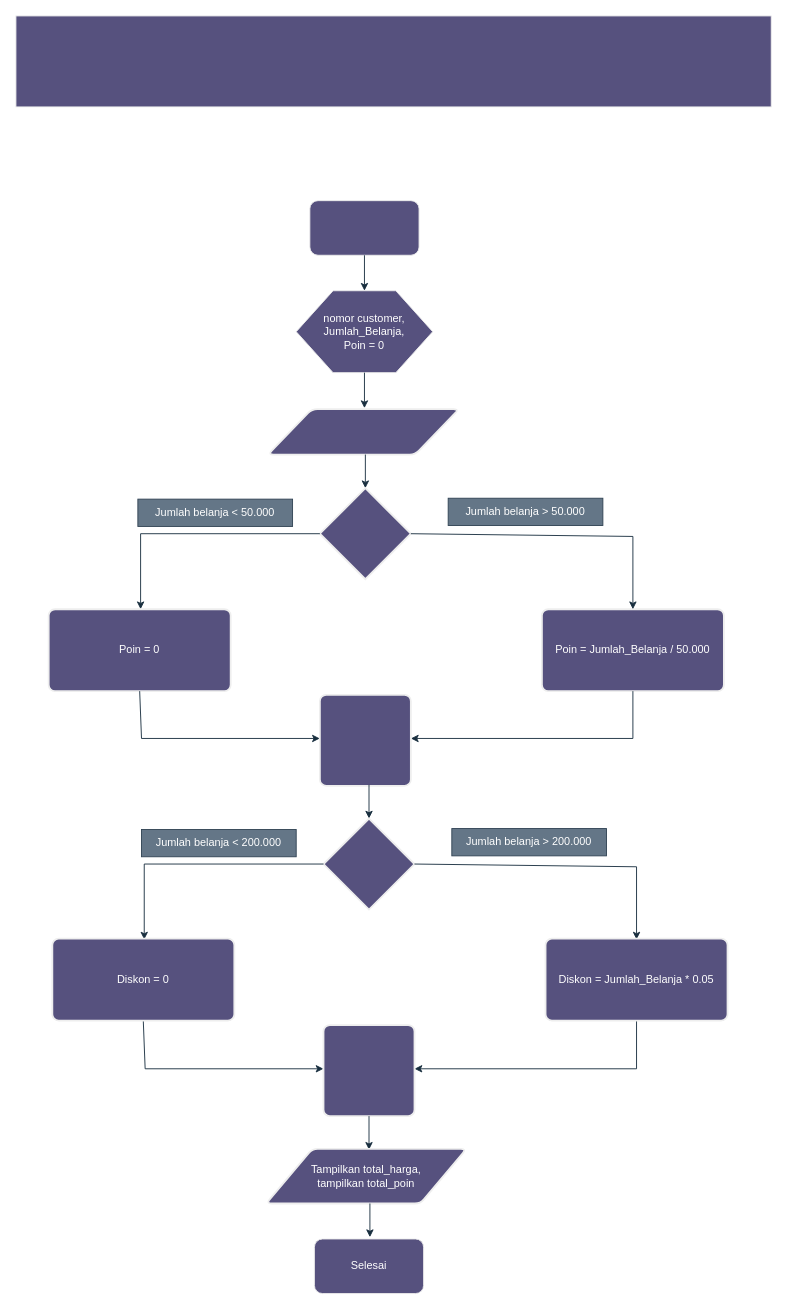
Image size: 787x1309. Some labels were removed from this diagram. The shapes that lost their labels are listed below. From the top down, each one's centre as x and y in pixels, then its label:
the point at 393,61: NAMA : HARSONO NIM : 225611086 PRODI : SISTEM INFORMASI / K1
the point at 364,227: Mulai
the point at 363,431: masukkan jumlah belanja
the point at 364,739: Cek Jumlah Belanja
the point at 368,1070: Total Harga = jumlah_belanja - diskon
